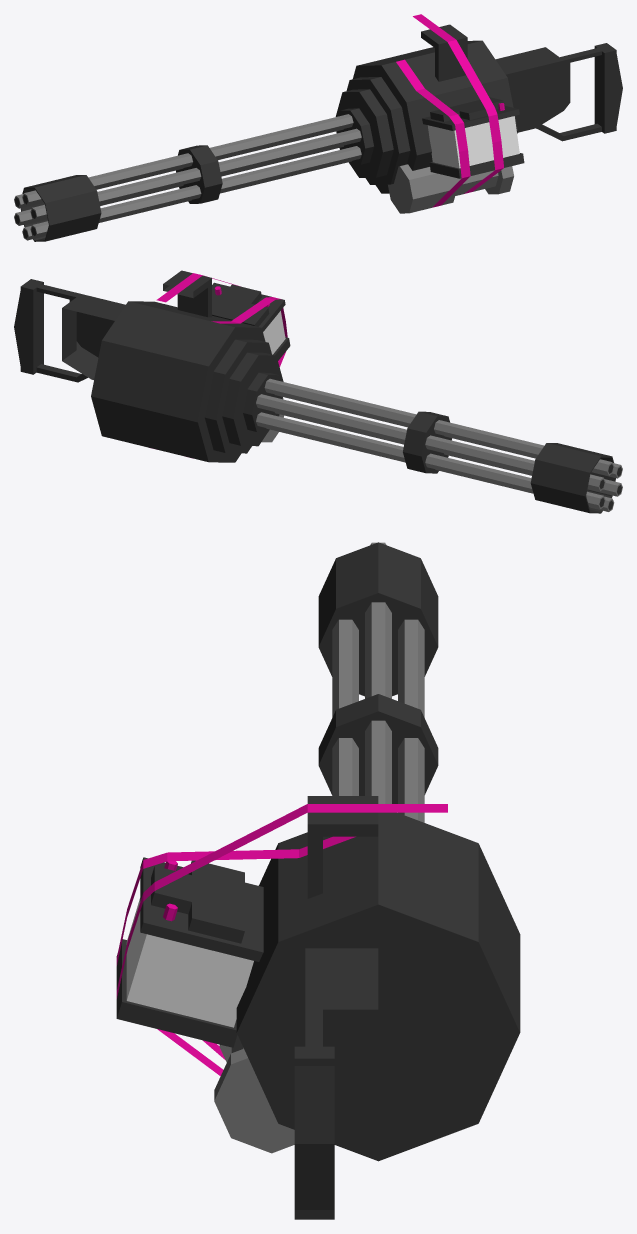
Rendered from minigun.glb.
The picture shows the model from 3 angles, top to bottom: view 1: azimuth 30°, elevation 25°; view 2: azimuth 150°, elevation 25°; view 3: azimuth 270°, elevation 25°; orthographic projection. The views are drawn at different scales.
Parts seen in each view (by area): view 1: Barrels, Body, Handle, Battery, Muzzle, Tape, Cylinder, Ring, TopHandle, Ring.001; view 2: Body, Barrels, Handle, Muzzle, Battery, Ring, TopHandle, Ring.001, Tape; view 3: Body, Battery, Handle, Barrels, Muzzle, Tape, Ring, Cylinder, TopHandle.
Boxes of the visible parts, x1,y1,x2,y2 form: Barrels: [14, 114, 361, 240]; Body: [335, 40, 517, 193]; Handle: [495, 43, 622, 141]; Battery: [422, 97, 524, 178]; Muzzle: [20, 175, 101, 241]; Tape: [396, 14, 503, 207]; Cylinder: [388, 164, 513, 213]; Ring: [176, 145, 222, 203]; TopHandle: [421, 24, 467, 81]; Ring.001: [336, 108, 373, 164]; Body: [91, 301, 283, 462]; Barrels: [256, 378, 622, 511]; Handle: [14, 279, 125, 382]; Muzzle: [530, 443, 615, 513]; Battery: [212, 282, 290, 360]; Ring: [403, 411, 451, 473]; TopHandle: [163, 270, 211, 317]; Ring.001: [243, 372, 282, 432]; Tape: [156, 273, 287, 366]; Body: [236, 812, 520, 1161]; Battery: [116, 857, 263, 1047]; Handle: [294, 948, 378, 1219]; Barrels: [332, 542, 424, 822]; Muzzle: [318, 542, 438, 696]; Tape: [116, 804, 447, 1075]; Ring: [318, 694, 438, 803]; Cylinder: [214, 1035, 294, 1153]; TopHandle: [307, 796, 378, 898].
Bounding box in the file's own units: 4.96 × 1.26 × 1.5.
